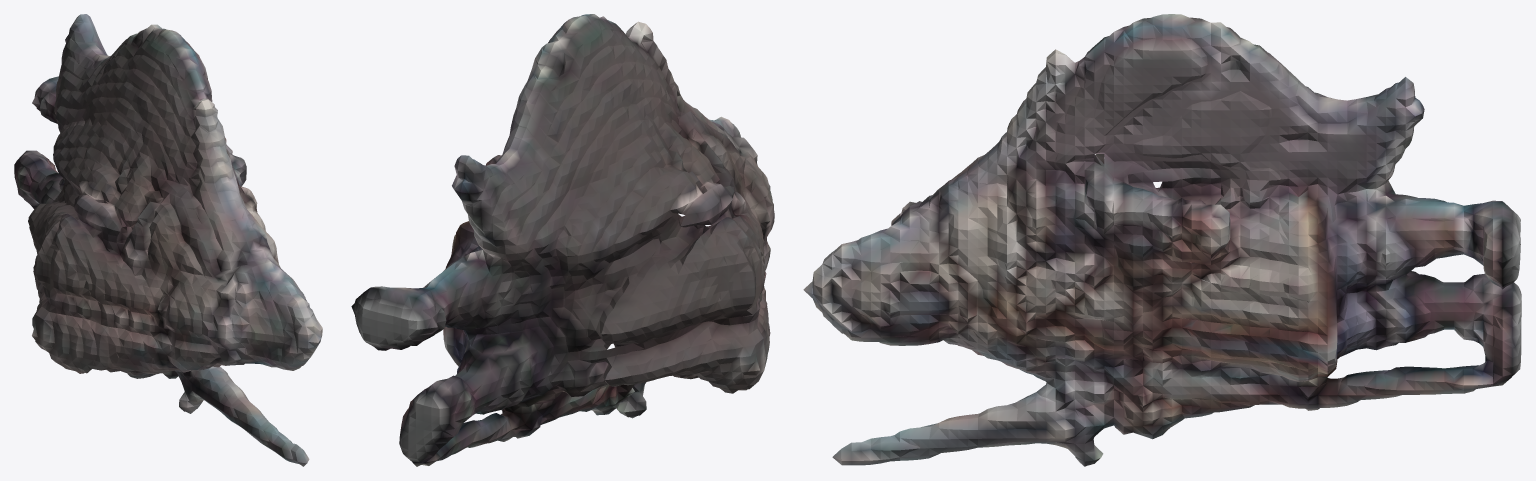
File: medieval_warrior_m_0.glb
3 renders of one model, left to right at view 1: azimuth 30°, elevation 25°; view 2: azimuth 150°, elevation 25°; view 3: azimuth 270°, elevation 25°, orthographic. The views are drawn at different scales.
Visible parts, largest first — view 1: world; view 2: world; view 3: world.
Part boxes in pixels (left/top/right/bottom): world: left=14, top=14, right=322, bottom=466; world: left=351, top=14, right=774, bottom=466; world: left=803, top=14, right=1521, bottom=466.
Bounding box in the file's own units: 0.4448 × 0.7173 × 1.01.
